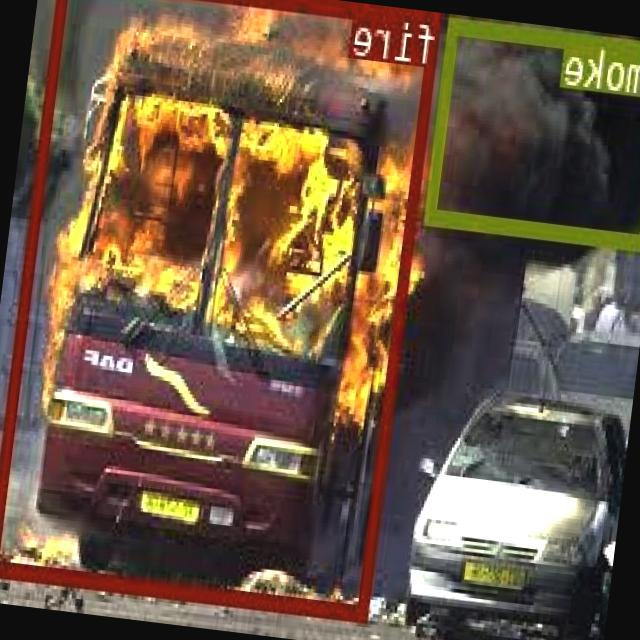fire: (0, 0, 443, 620)
smoke: (427, 14, 640, 247)
